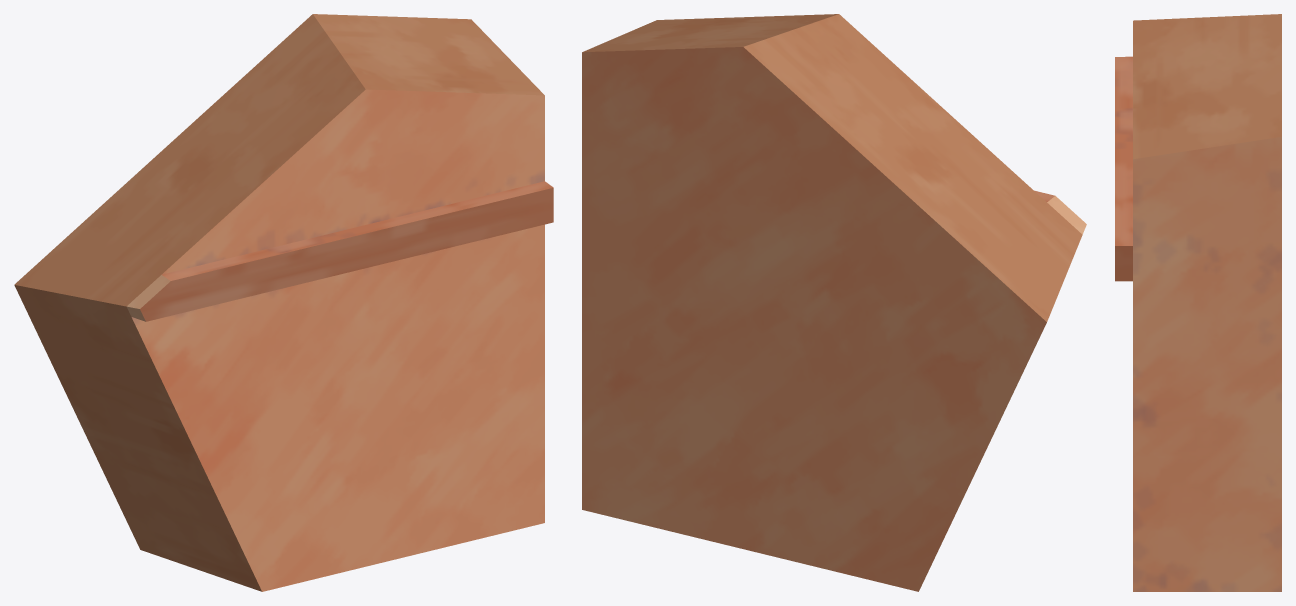
The model's file is wall2_upper_window_s02.fbx.
3 views of the same model, side by side, from view 1: azimuth 30°, elevation 25°; view 2: azimuth 150°, elevation 25°; view 3: azimuth 270°, elevation 25° (orthographic).
Visible parts, largest first — view 1: wall2_upper_window_s02; view 2: wall2_upper_window_s02; view 3: wall2_upper_window_s02.
Boxes of the visible parts, <box> form: wall2_upper_window_s02: <box>14,14,553,591</box>; wall2_upper_window_s02: <box>582,14,1086,591</box>; wall2_upper_window_s02: <box>1115,14,1281,591</box>.
Size of the model in its own units: 3.58 by 3.7 by 1.12.
